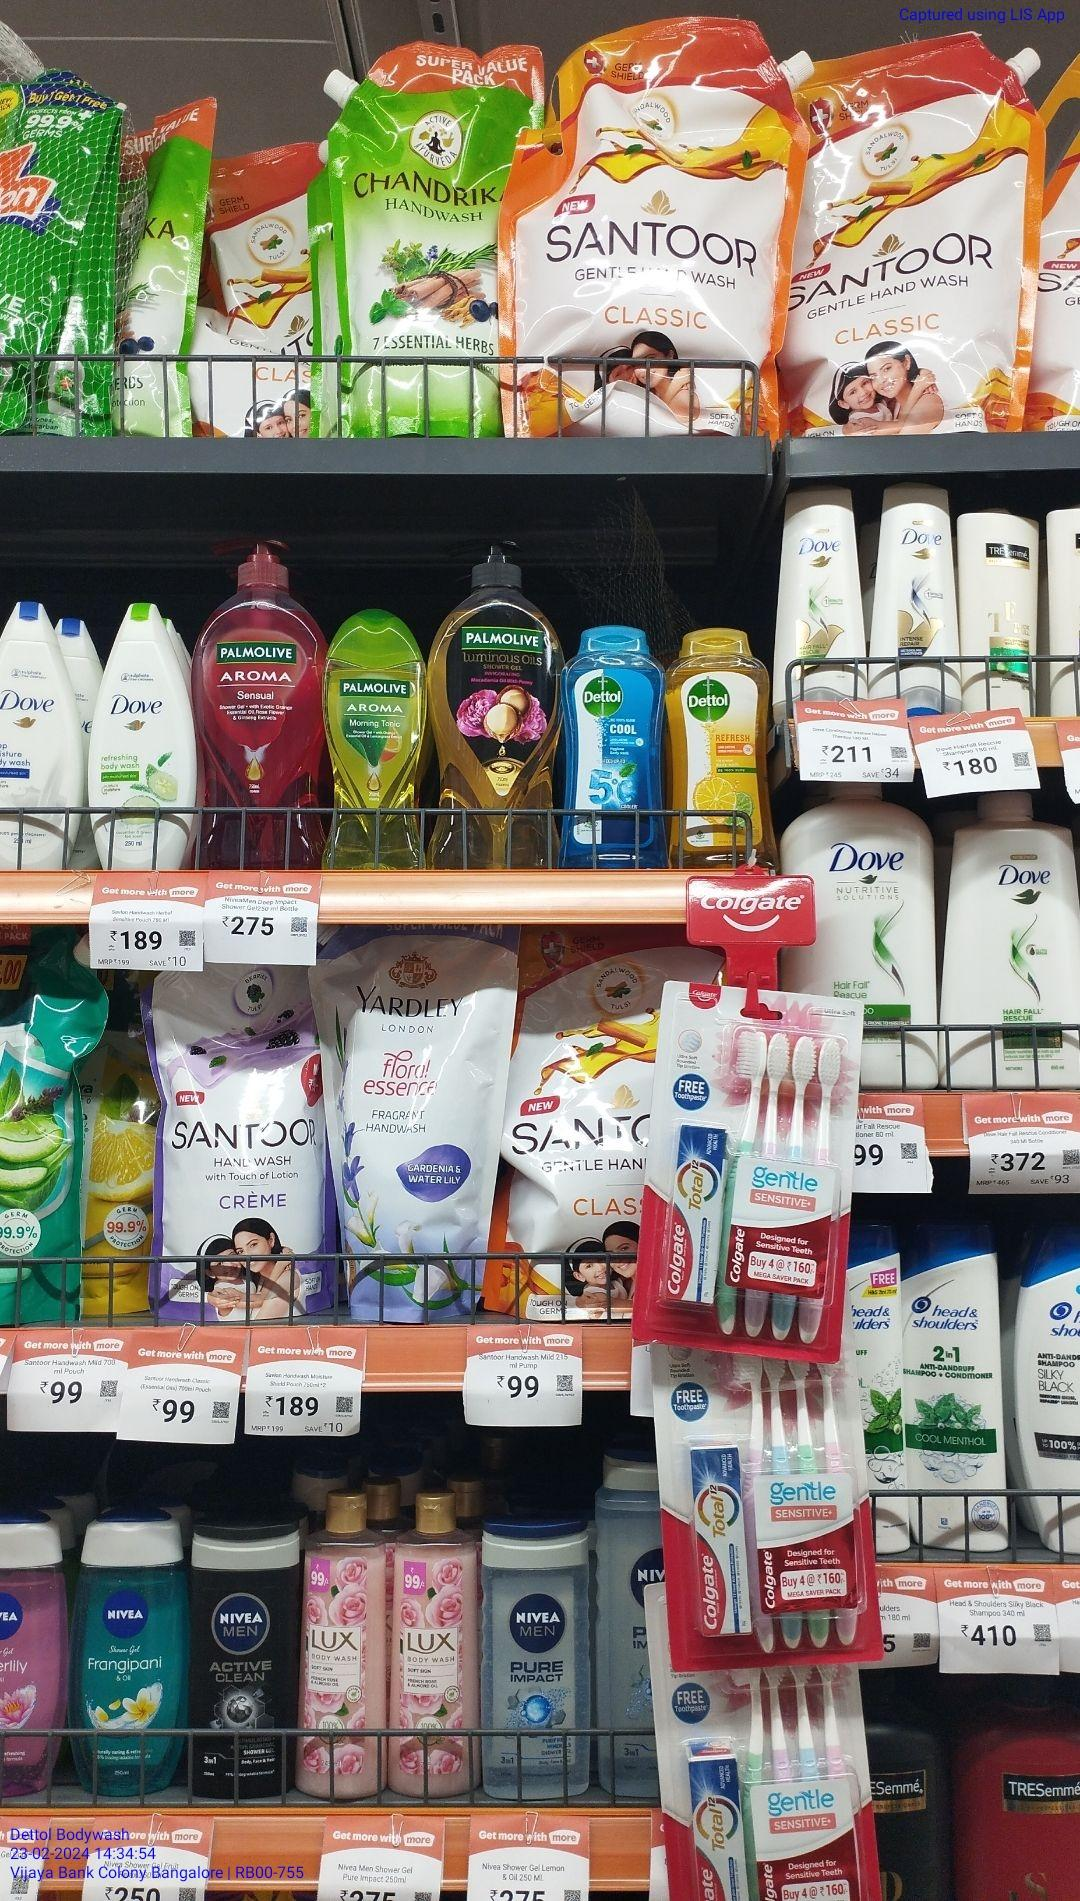Dettol_Bodywash_Cool: (560, 611, 665, 867)
Dettol_Bodywash_Refresh: (667, 621, 772, 872)
Dove_Deep_Moisture_Body_Wash_250ML: (3, 594, 77, 876)
Dove_Refreshing_Body_Wash_250ML: (90, 591, 191, 875)
Nivea_Shower_Gel_Frangipani_and_Oil_250ML: (72, 1508, 185, 1793)
Nivea_Shower_Gel_Waterlily_and_Oil_250ML: (1, 1517, 64, 1794)
Palmolive_Aroma_Morning_Tonic_Shower_Gel_250ML: (324, 612, 430, 875)
